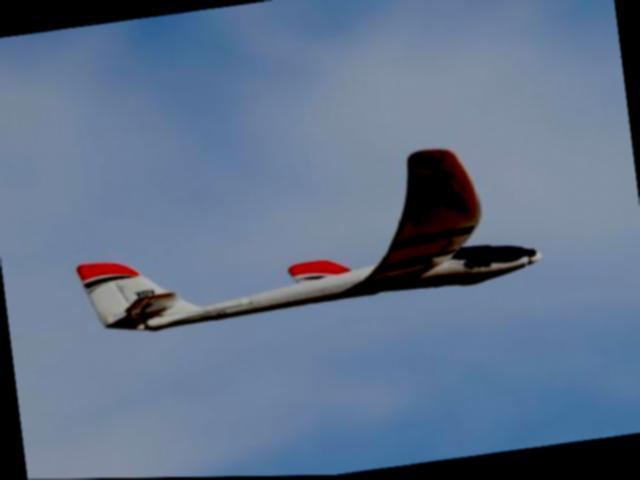uav: (64, 131, 548, 347)
